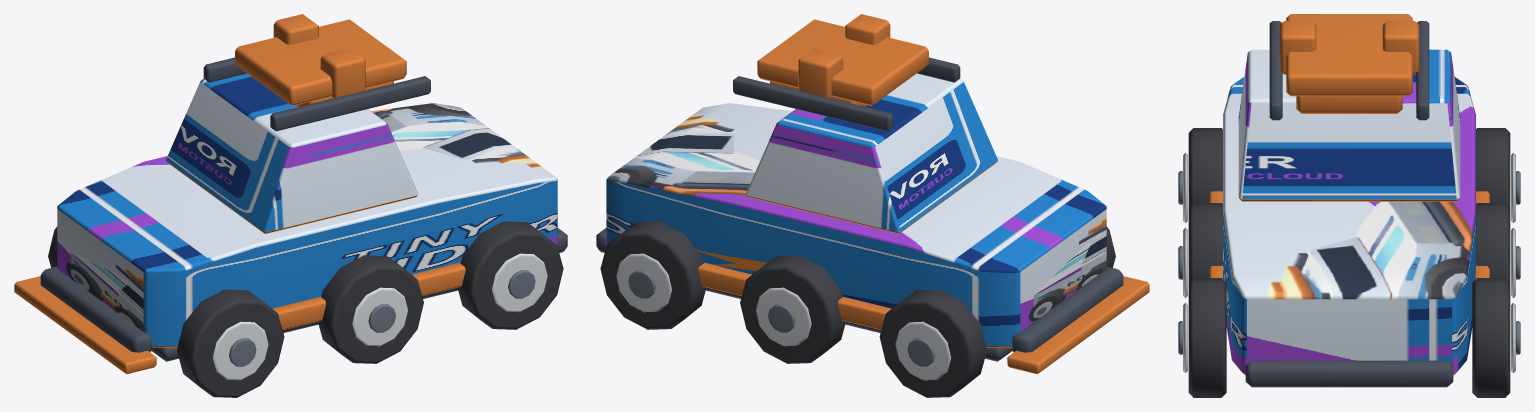
The picture shows the model from 3 angles, left to right: view 1: azimuth 30°, elevation 25°; view 2: azimuth 150°, elevation 25°; view 3: azimuth 270°, elevation 25°; orthographic projection. The views are drawn at different scales.
Visible parts, largest first — view 1: FF-04_connected_shell, FF-04_cabin, utility load, Tire, Tire.002, Tire.004, custom chin, utility rail, front bumper, custom side guard, Rim.002, Rim (+8 smaller); view 2: FF-04_connected_shell, FF-04_cabin, utility load, Tire.001, Tire.003, Tire.005, custom chin, utility rail.001, front bumper, custom side guard.001, Rim.003, Rim.001 (+8 smaller); view 3: FF-04_connected_shell, FF-04_cabin, utility load, rear bumper, Tire.004, Tire.005, Tire, Tire.001, Tire.002, Tire.003, custom equipment, science sensor (+11 smaller).
Boxes of the visible parts, x1,y1,x2,y2 form: FF-04_connected_shell: (57,103,557,347); FF-04_cabin: (166,73,417,233); utility load: (235,19,406,105); Tire: (177,289,284,397); Tire.002: (318,255,423,363); Tire.004: (457,221,563,329); custom chin: (14,276,156,374); utility rail: (270,76,430,131); front bumper: (40,266,152,352); custom side guard: (272,262,465,329); Rim.002: (352,287,407,346); Rim: (212,321,268,380); FF-04_connected_shell: (606,103,1106,347); FF-04_cabin: (746,73,997,233); utility load: (757,19,928,105); Tire.001: (879,289,986,397); Tire.003: (740,255,845,363); Tire.005: (600,221,706,329); custom chin: (1007,276,1149,374); utility rail.001: (733,76,893,131); front bumper: (1011,266,1123,352); custom side guard.001: (698,262,891,329); Rim.003: (756,287,811,346); Rim.001: (895,321,951,380); FF-04_connected_shell: (1223,77,1475,374); FF-04_cabin: (1238,49,1460,201); utility load: (1286,14,1412,96); rear bumper: (1245,360,1453,387); Tire.004: (1188,278,1226,397); Tire.005: (1472,278,1510,397); Tire: (1188,128,1222,207); Tire.001: (1476,128,1510,207); Tire.002: (1188,203,1222,282); Tire.003: (1476,203,1510,282); custom equipment: (1296,96,1402,113); science sensor: (1279,21,1316,74).
Bounding box in the file's own units: 392 × 223 × 233.
